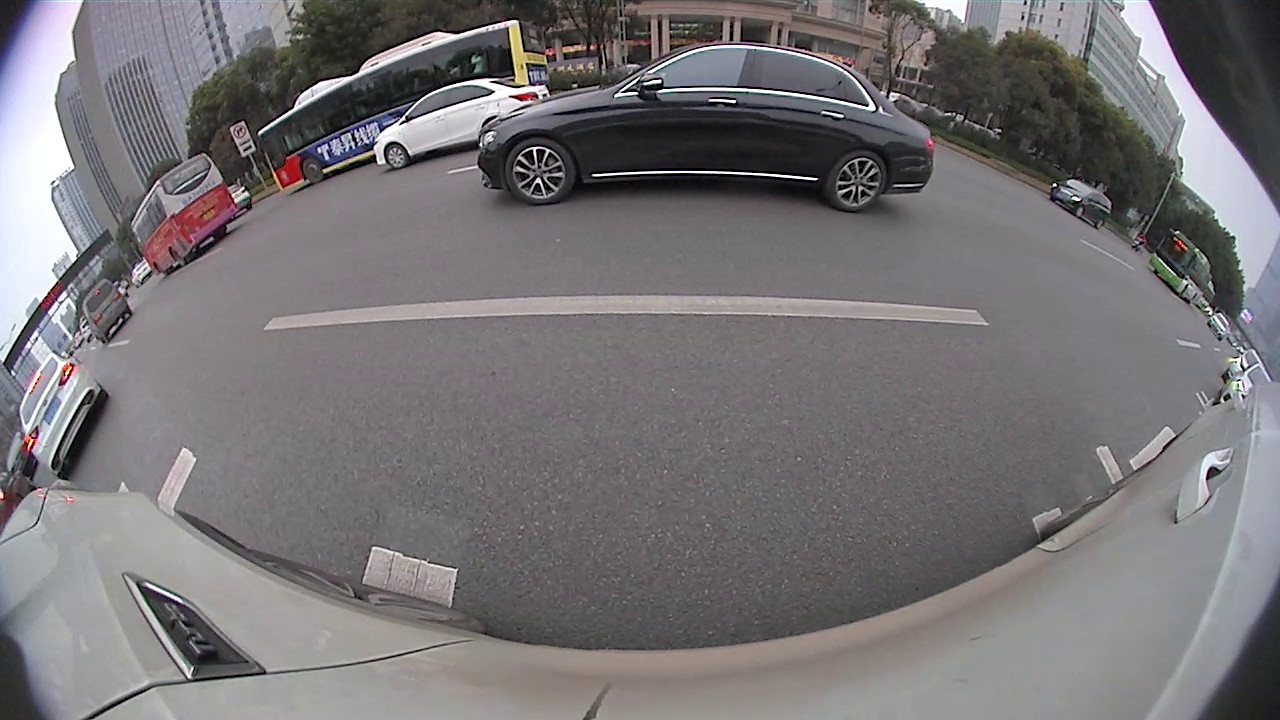bus: (254, 17, 552, 198), (128, 150, 241, 278), (1146, 226, 1213, 306)
car: (476, 39, 937, 214), (370, 75, 551, 171), (16, 348, 109, 478), (80, 277, 134, 344), (1047, 177, 1114, 231), (1213, 360, 1273, 403), (226, 181, 255, 213), (1207, 310, 1231, 341)
front: (506, 139, 576, 204), (299, 153, 329, 187), (381, 142, 410, 171)
rear: (820, 152, 888, 216), (53, 460, 71, 482), (94, 388, 112, 408)
